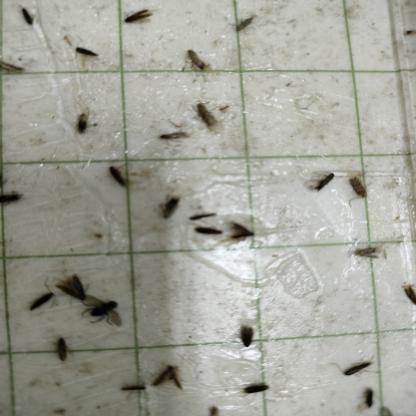prays_oleae: (148, 350, 186, 402), (85, 285, 123, 331), (190, 90, 225, 136), (55, 260, 86, 309), (0, 177, 24, 235), (228, 212, 257, 253), (0, 42, 22, 96), (346, 165, 370, 208), (156, 183, 178, 228), (356, 240, 385, 273), (236, 318, 256, 364), (343, 354, 374, 382), (66, 110, 92, 142), (238, 379, 272, 402), (229, 10, 257, 37), (50, 332, 72, 366), (310, 171, 337, 198), (122, 8, 156, 29), (157, 127, 188, 150), (25, 290, 58, 311), (400, 269, 416, 311), (108, 162, 130, 190), (74, 40, 98, 65), (196, 224, 222, 247), (121, 378, 148, 398), (188, 46, 205, 76)
